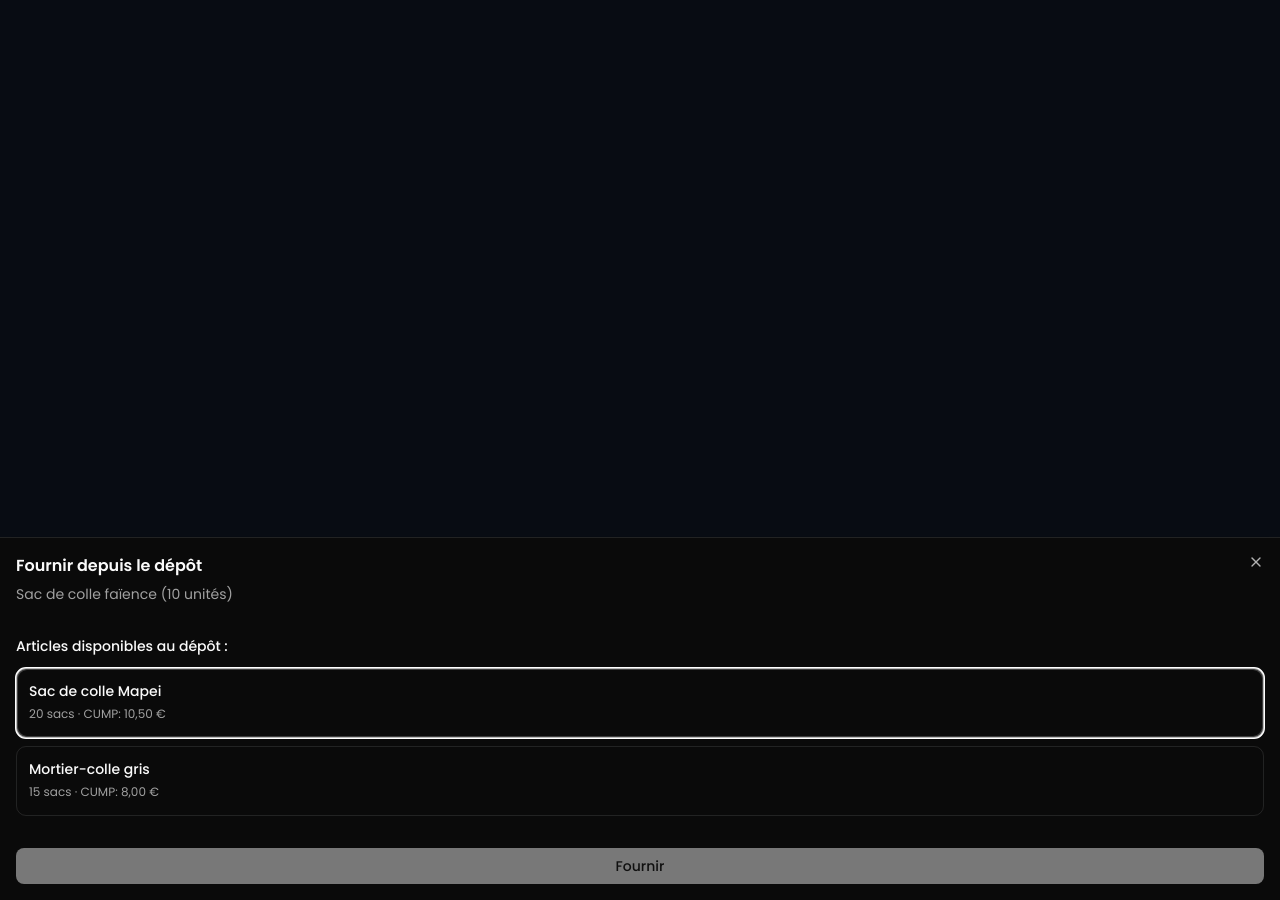
Test: DepotFournirSheet › shows montant when article is selected (AC #2)
The width and height of the screenshot is (1280, 900).
Click the button "Sac de colle Mapei": click(95, 691) [16,668,1264,738]
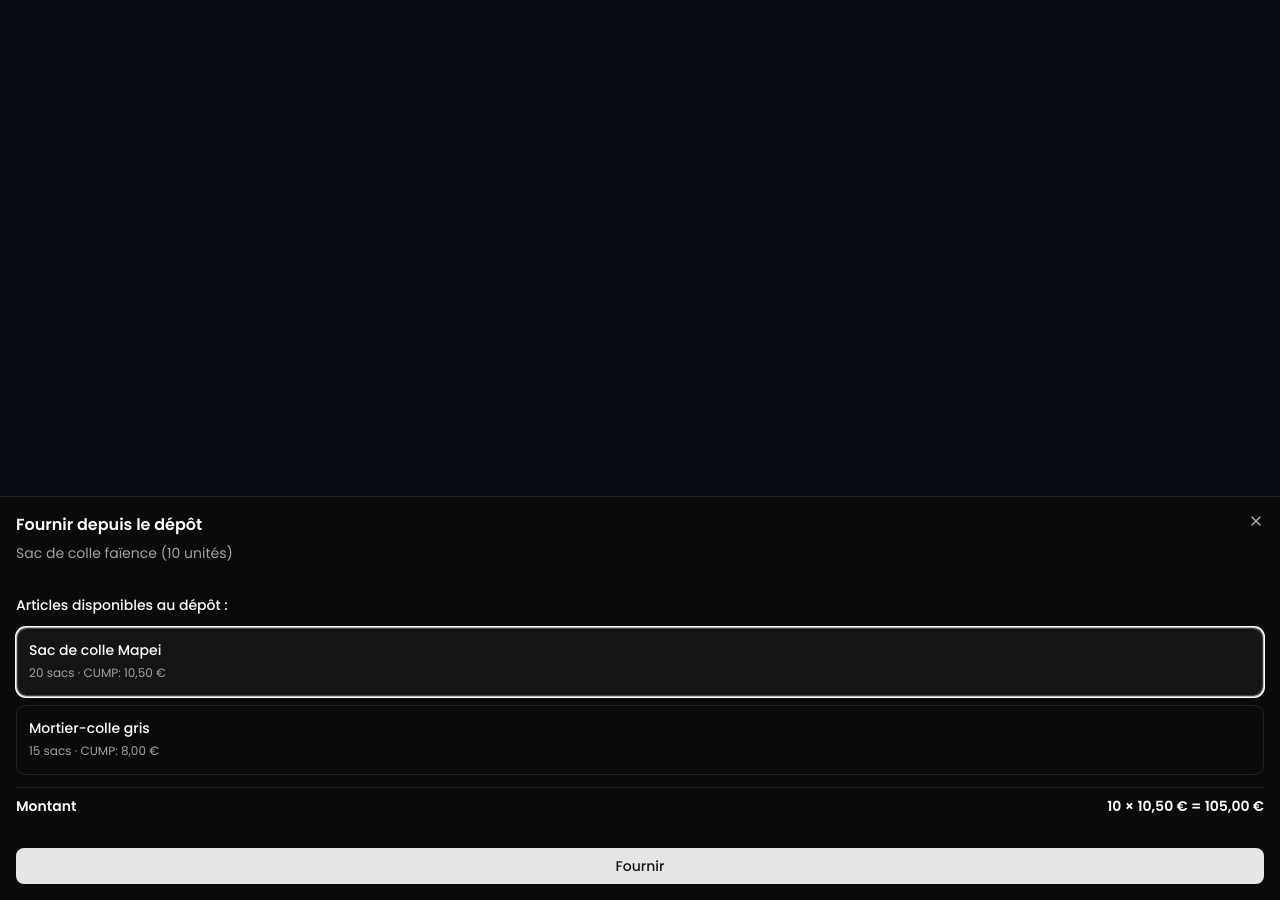
Expected: the text with test id "montant-total" shows "105,00", [1205,796,1264,816]
